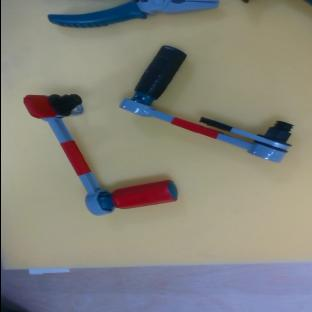non_pass: (118, 40, 300, 197)
pass: (0, 70, 181, 248)
